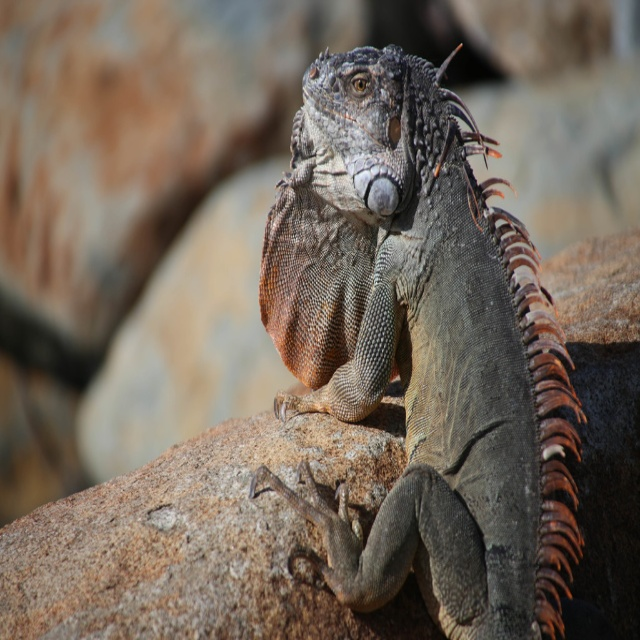Lizard: (266, 8, 586, 587)
